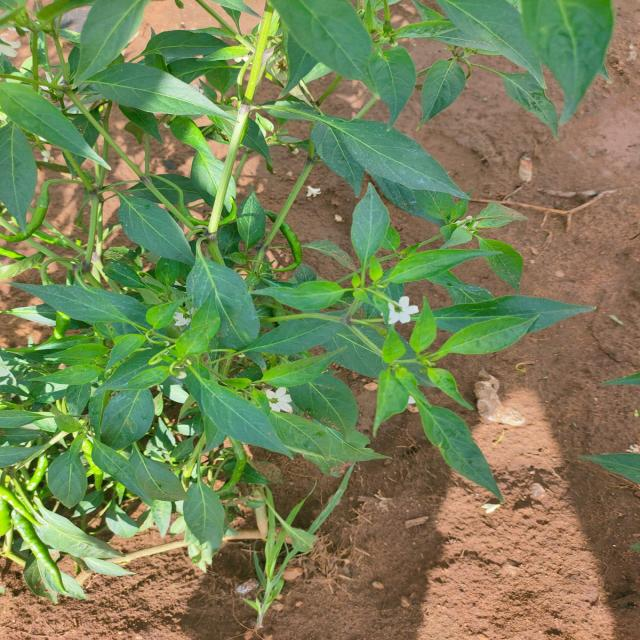Mosaic_virus: (0, 0, 640, 569)
